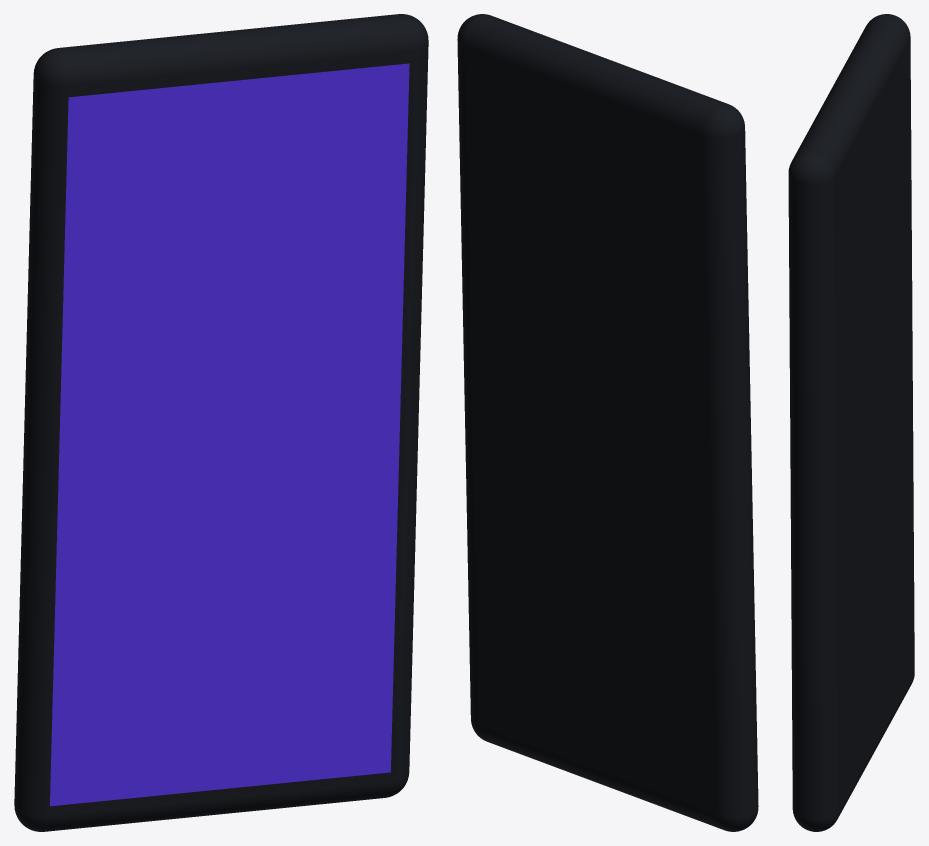
File: device-mobile-v1.glb
The picture shows the model from 3 angles, left to right: view 1: azimuth 30°, elevation 25°; view 2: azimuth 150°, elevation 25°; view 3: azimuth 270°, elevation 25°; orthographic projection. The views are drawn at different scales.
Visible parts, largest first — view 1: PhoneDisplay, PhoneShell; view 2: PhoneShell; view 3: PhoneShell.
Part boxes in pixels (x1,y1,x2,y2): PhoneDisplay: (50,63,409,806); PhoneShell: (14,14,428,831); PhoneShell: (457,14,758,831); PhoneShell: (788,14,914,831).
Size of the model in its own units: 1.08 by 2.24 by 0.3744.
